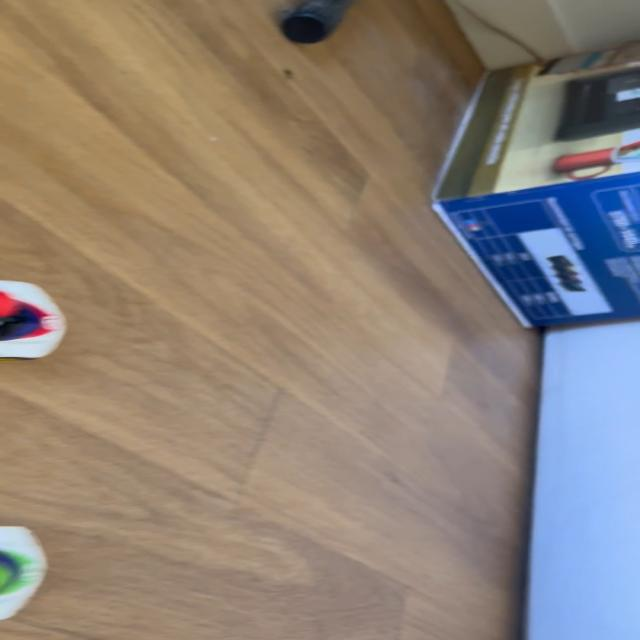mario: (0, 262, 88, 374)
yoshi: (0, 506, 71, 638)
